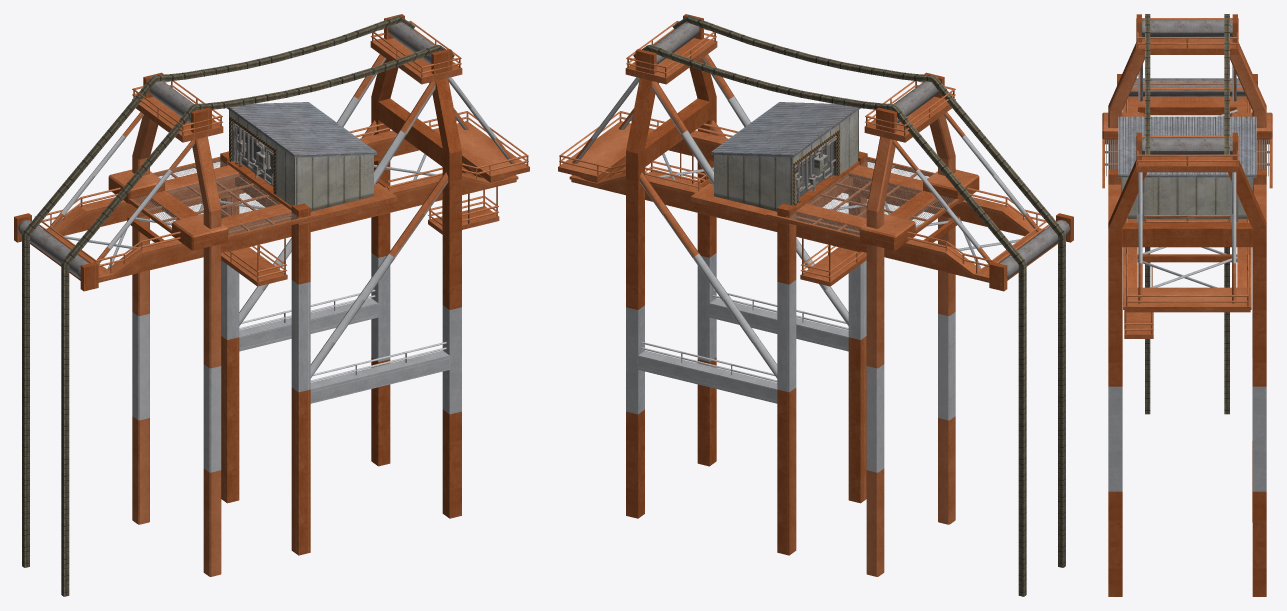
Rendered from bg04_path_t_01out.fbx.
3 views of the same model, side by side, from view 1: azimuth 30°, elevation 25°; view 2: azimuth 150°, elevation 25°; view 3: azimuth 270°, elevation 25° (orthographic).
Visible parts, largest first — view 1: set_p-geom-P5, set_p-geom-P4, set_p-geom-P2, set_p-geom-P3, set_p-geom-P0, set_p-geom-P1; view 2: set_p-geom-P5, set_p-geom-P4, set_p-geom-P2, set_p-geom-P3, set_p-geom-P0, set_p-geom-P1; view 3: set_p-geom-P5, set_p-geom-P4, set_p-geom-P3, set_p-geom-P2.
Boxes of the visible parts, x1=… form: set_p-geom-P5: x1=14, y1=14, x2=529, y2=576; set_p-geom-P4: x1=43, y1=38, x2=517, y2=286; set_p-geom-P2: x1=22, y1=15, x2=454, y2=596; set_p-geom-P3: x1=18, y1=22, x2=434, y2=278; set_p-geom-P0: x1=234, y1=124, x2=273, y2=190; set_p-geom-P1: x1=229, y1=115, x2=275, y2=194; set_p-geom-P5: x1=558, y1=14, x2=1073, y2=576; set_p-geom-P4: x1=570, y1=38, x2=1044, y2=286; set_p-geom-P2: x1=633, y1=15, x2=1065, y2=596; set_p-geom-P3: x1=653, y1=22, x2=1069, y2=278; set_p-geom-P0: x1=795, y1=135, x2=836, y2=203; set_p-geom-P1: x1=793, y1=130, x2=839, y2=205; set_p-geom-P5: x1=1102, y1=14, x2=1272, y2=596; set_p-geom-P4: x1=1108, y1=39, x2=1266, y2=338; set_p-geom-P3: x1=1106, y1=19, x2=1268, y2=176; set_p-geom-P2: x1=1145, y1=14, x2=1229, y2=414.
Bounding box in the file's own units: 49.75 × 47.87 × 16.
